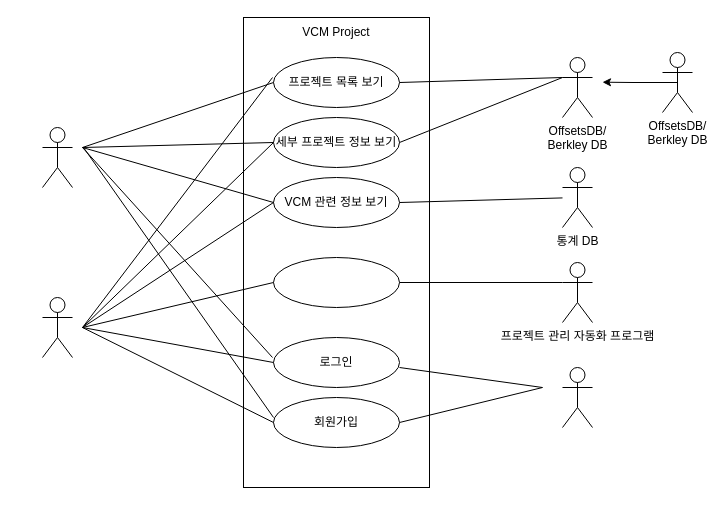
Image size: 725x505. Some labels were removed from this diagram. Here are the shapes that lost their labels. From the top down, the centre of each, then its label:
pixel 57 157: 일반 사용자
pixel 336 282: 프로젝트 관리
pixel 57 327: 프로젝트 관리자
pixel 577 397: 구글/카카오 OAUTH
